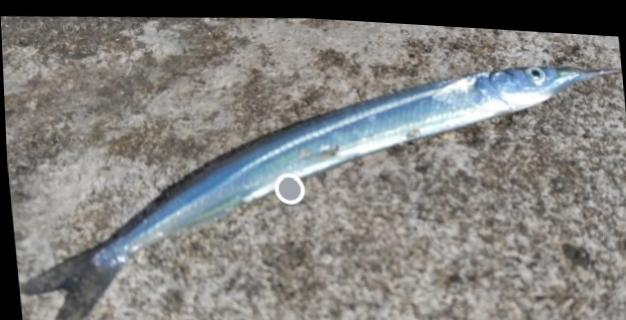fish: (17, 59, 621, 320)
